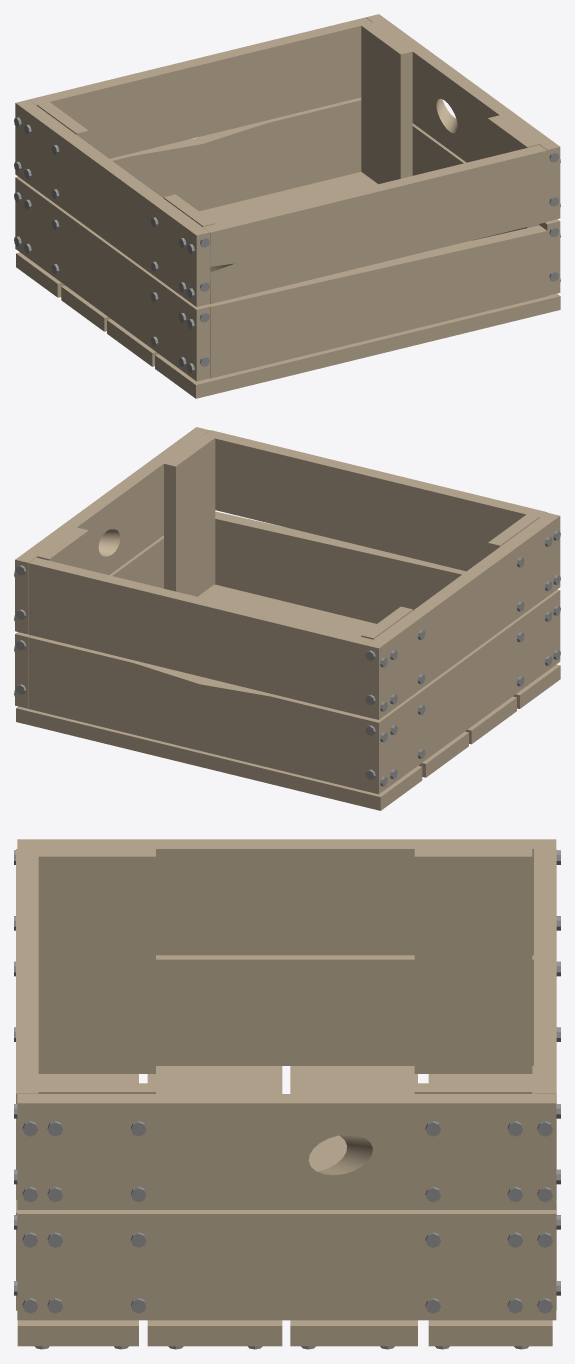
File: WoodenCrate.fbx
3 renders of one model, top to bottom at view 1: azimuth 30°, elevation 25°; view 2: azimuth 150°, elevation 25°; view 3: azimuth 270°, elevation 25°, orthographic. The views are drawn at different scales.
Parts seen in each view (by area): view 1: WoodenCrateCombined; view 2: WoodenCrateCombined; view 3: WoodenCrateCombined.
Boxes of the visible parts, box(x1,y1,x2,y2) form: WoodenCrateCombined: box(14, 14, 560, 398); WoodenCrateCombined: box(14, 427, 560, 810); WoodenCrateCombined: box(14, 839, 560, 1349).
Bounding box in the file's own units: 5.39 × 2.33 × 4.66.
